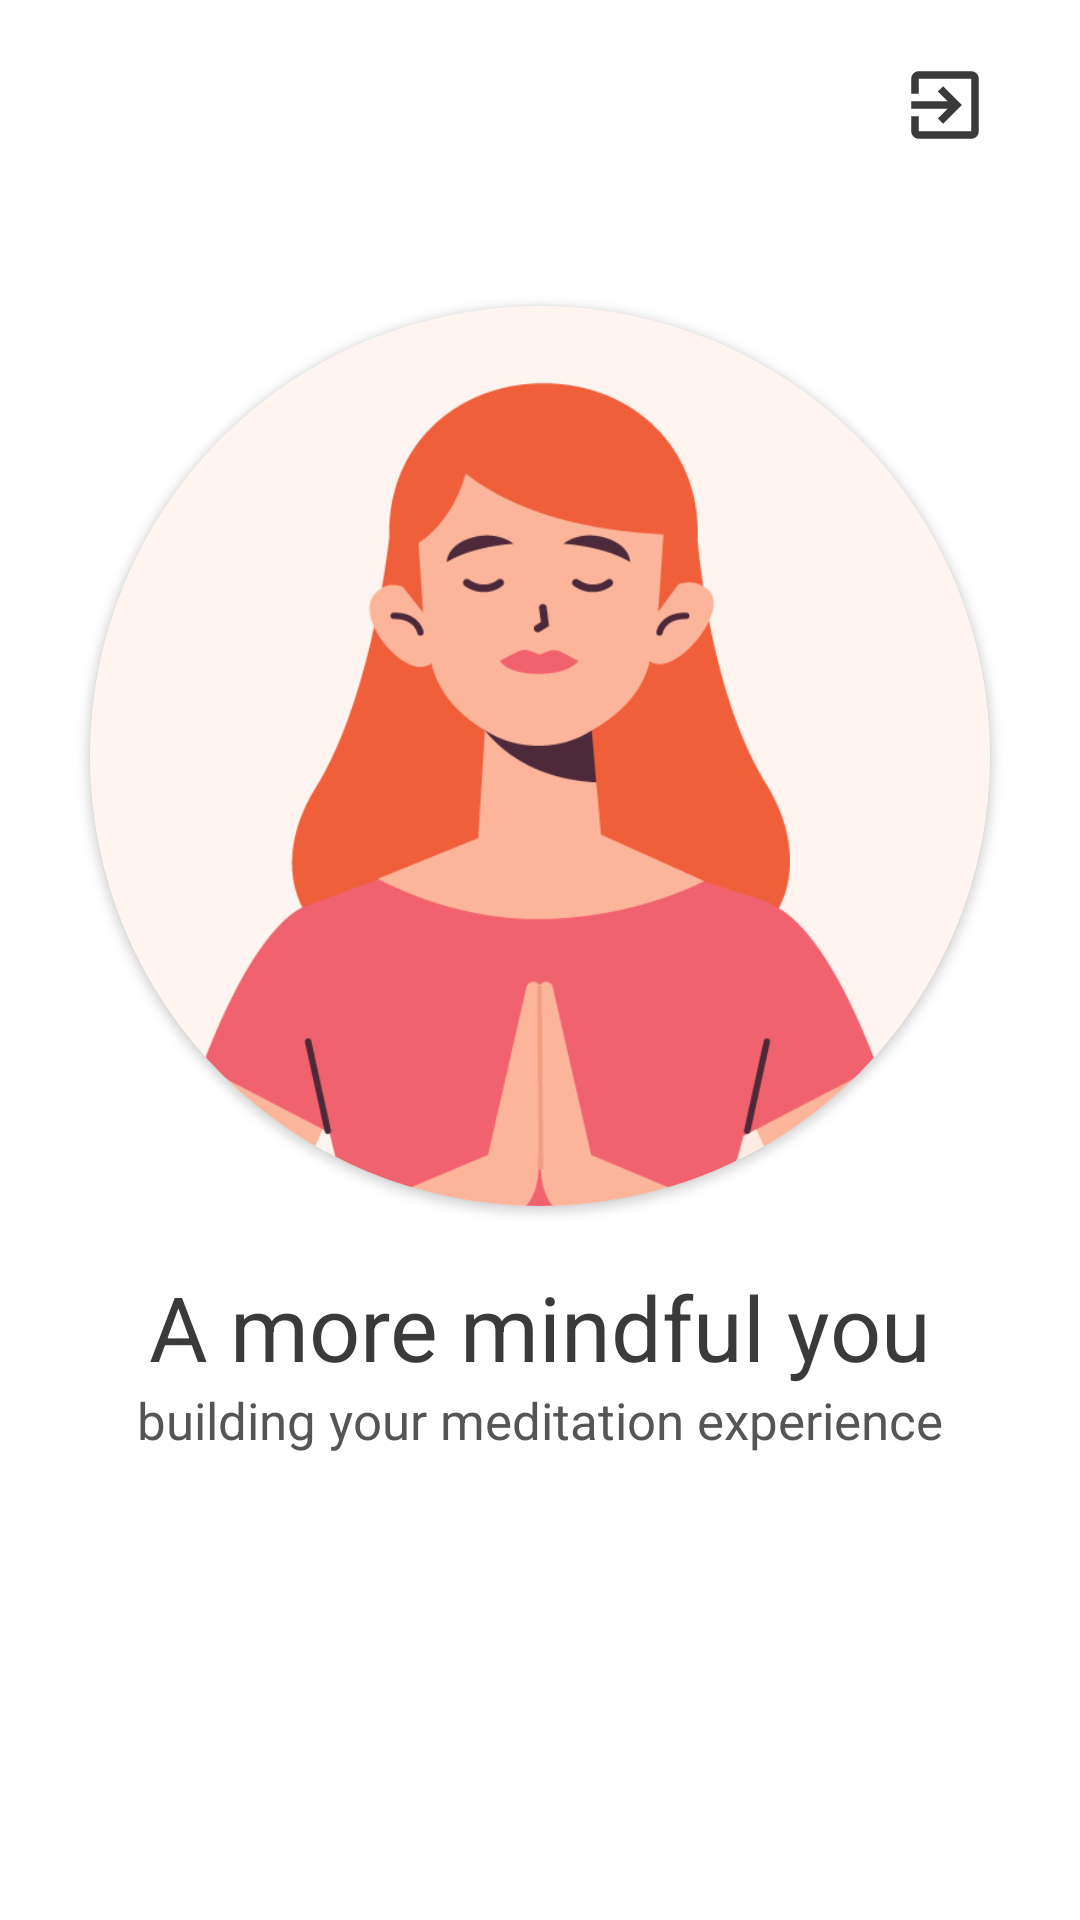

Icon bounding boxes for this 1080px×1920px phone screenshot, format box=[x1, y1, x2, y2]:
sign out: box=[911, 71, 979, 139]
